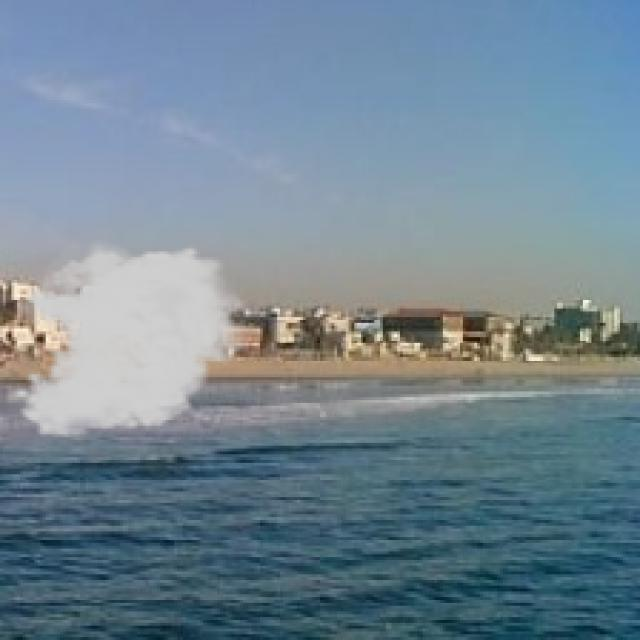smoke: (12, 234, 257, 440)
